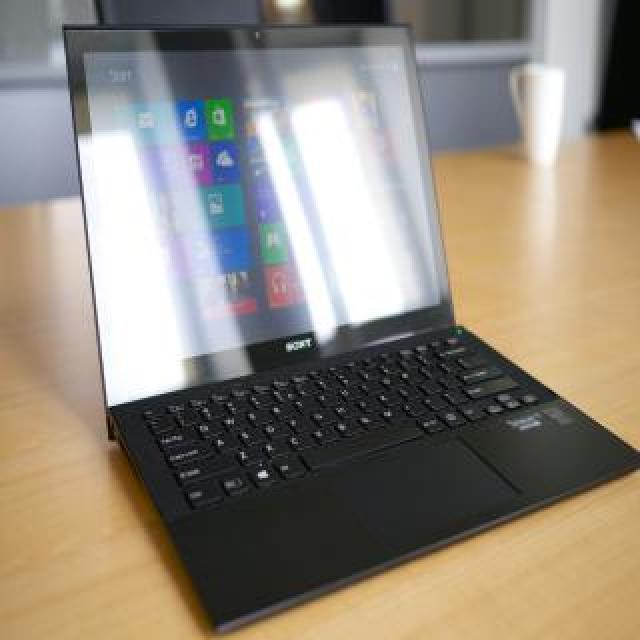laptop_computer: (49, 9, 616, 615)
